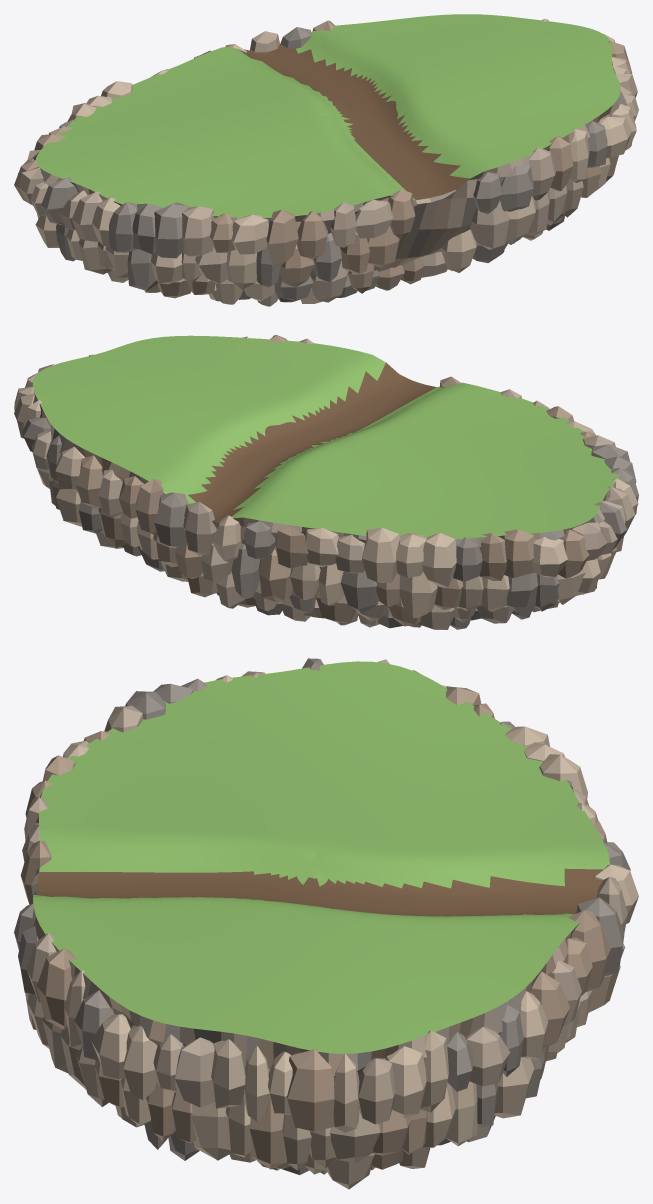
File: island_base.glb
3 views of the same model, one above another, from view 1: azimuth 30°, elevation 25°; view 2: azimuth 150°, elevation 25°; view 3: azimuth 270°, elevation 25° (orthographic). The views are drawn at different scales.
Parts seen in each view (by area): view 1: island_base; view 2: island_base; view 3: island_base.
Part boxes in pixels (bbox=[...]): island_base: bbox=[14, 14, 638, 306]; island_base: bbox=[14, 335, 638, 629]; island_base: bbox=[14, 658, 638, 1189].
Bounding box in the file's own units: 47.92 × 11.43 × 29.91.
